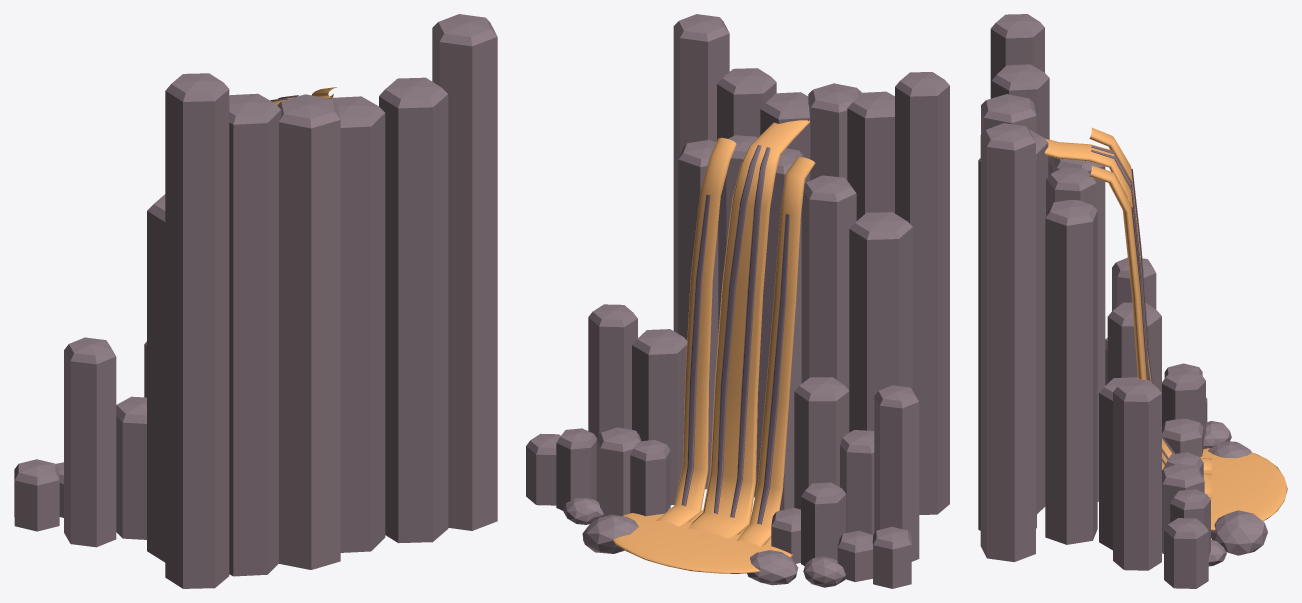
The model's file is LavaFall.glb.
The picture shows the model from 3 angles, left to right: view 1: azimuth 30°, elevation 25°; view 2: azimuth 150°, elevation 25°; view 3: azimuth 270°, elevation 25°; orthographic projection. The views are drawn at different scales.
Parts seen in each view (by area): view 1: Rock; view 2: Rock, Lava, Crust; view 3: Rock, Lava, Crust.
Part boxes in pixels (x1,y1,x2,y2): Rock: (14,14,497,588); Rock: (526,14,949,588); Lava: (613,120,815,573); Crust: (681,145,789,524); Rock: (978,14,1267,588); Lava: (1044,127,1287,530); Crust: (1091,145,1174,464).
Size of the model in its own units: 48.08 by 53.15 by 34.45.
